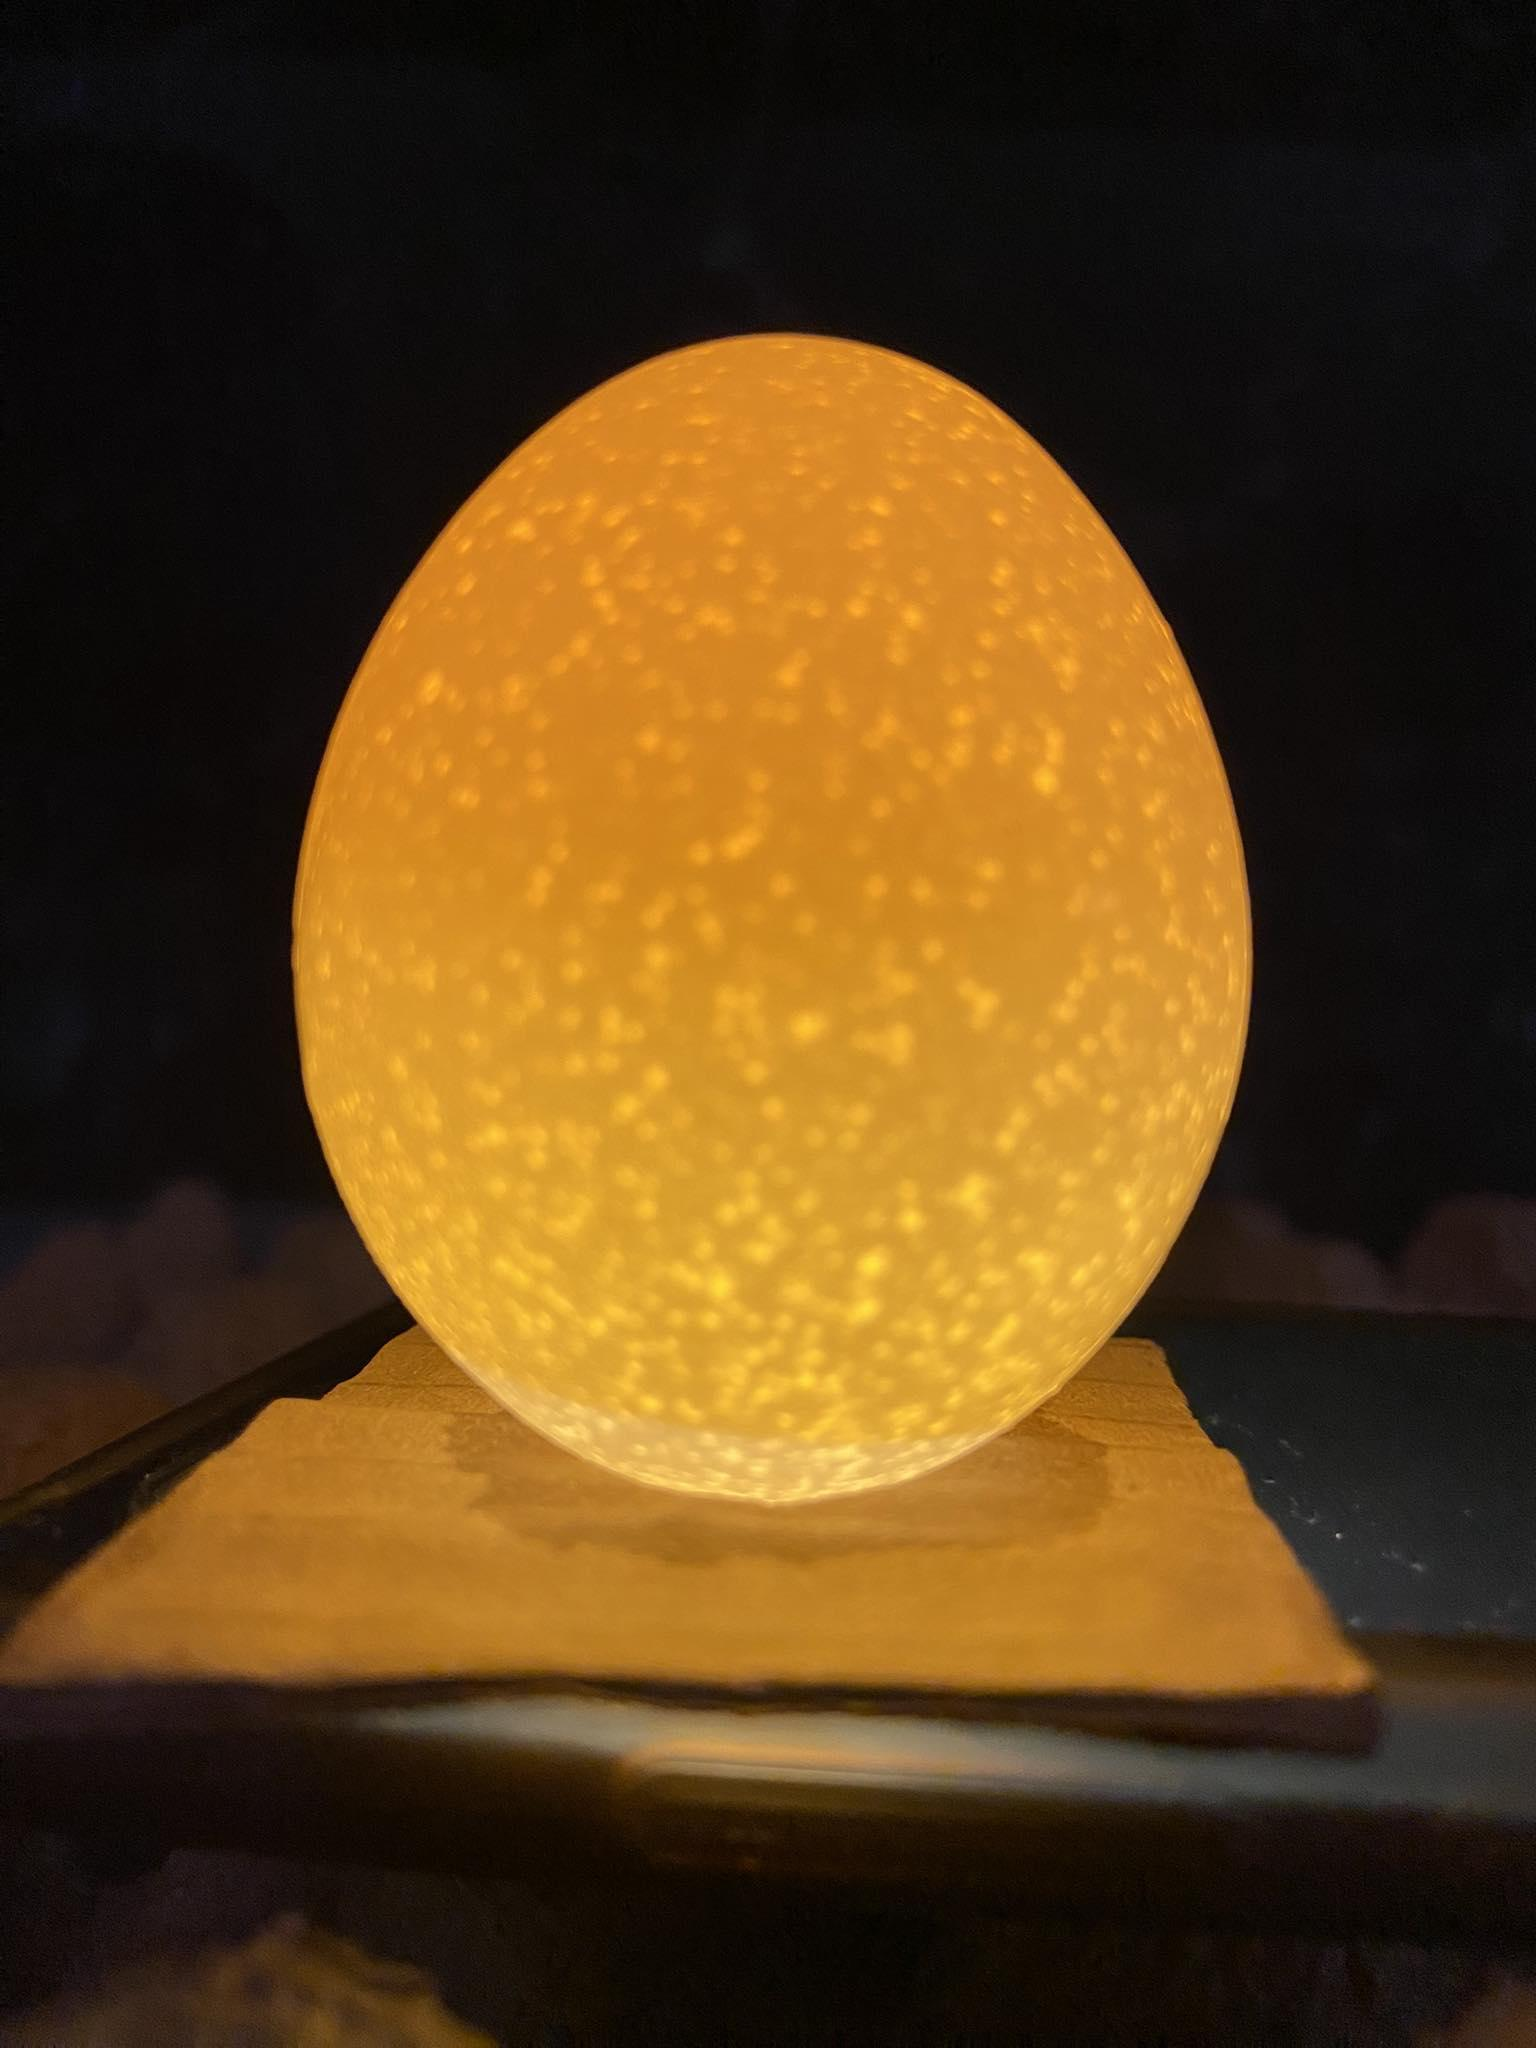A - Good: (273, 293, 1273, 1553)
